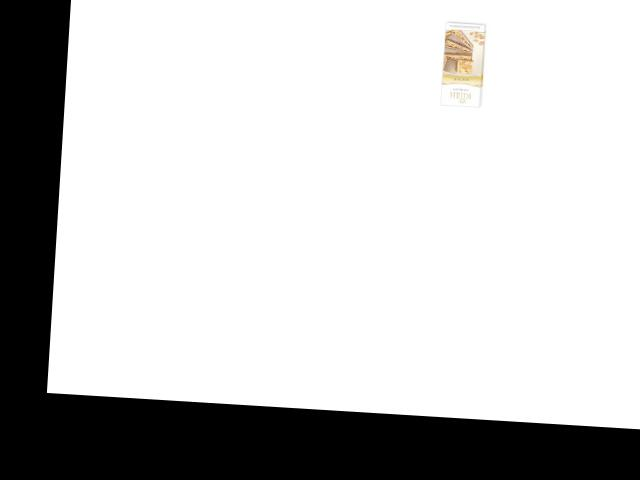chocolate: (432, 17, 502, 113)
